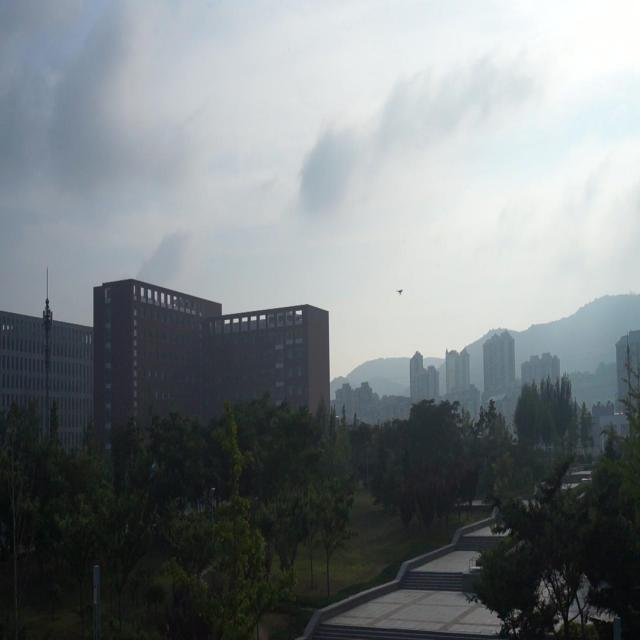UAV: (396, 289, 403, 295)
